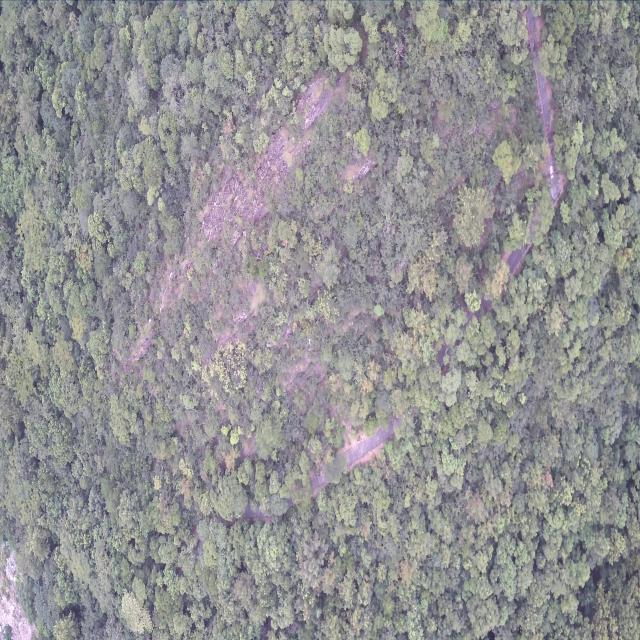drone: (306, 338, 312, 345)
